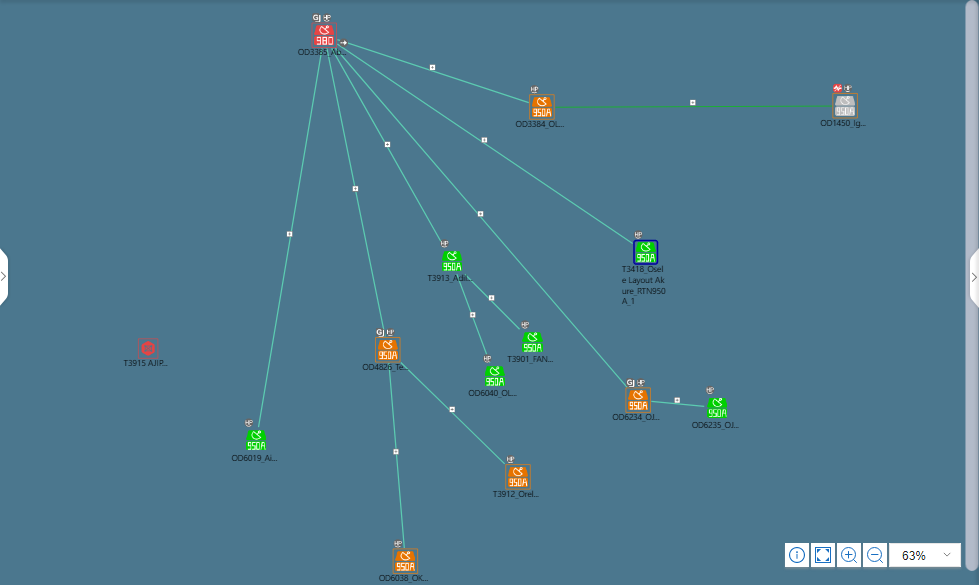Link_Blue: (356, 74, 632, 392), (366, 45, 629, 240), (254, 45, 326, 426), (333, 51, 439, 240), (327, 66, 384, 331), (340, 39, 525, 101), (401, 363, 509, 462), (462, 271, 522, 329), (389, 398, 411, 546), (456, 279, 488, 367), (670, 400, 704, 410)
RTN_Gray: (835, 94, 858, 123)
RTN_Green: (633, 240, 662, 263), (523, 332, 546, 355), (444, 253, 467, 276), (248, 430, 271, 453), (486, 369, 509, 392), (707, 400, 730, 423)
RTN_Orange: (529, 94, 552, 123), (505, 467, 534, 490), (627, 387, 649, 416), (395, 546, 416, 575), (376, 338, 398, 360)
RTN_Red: (315, 26, 338, 49)
